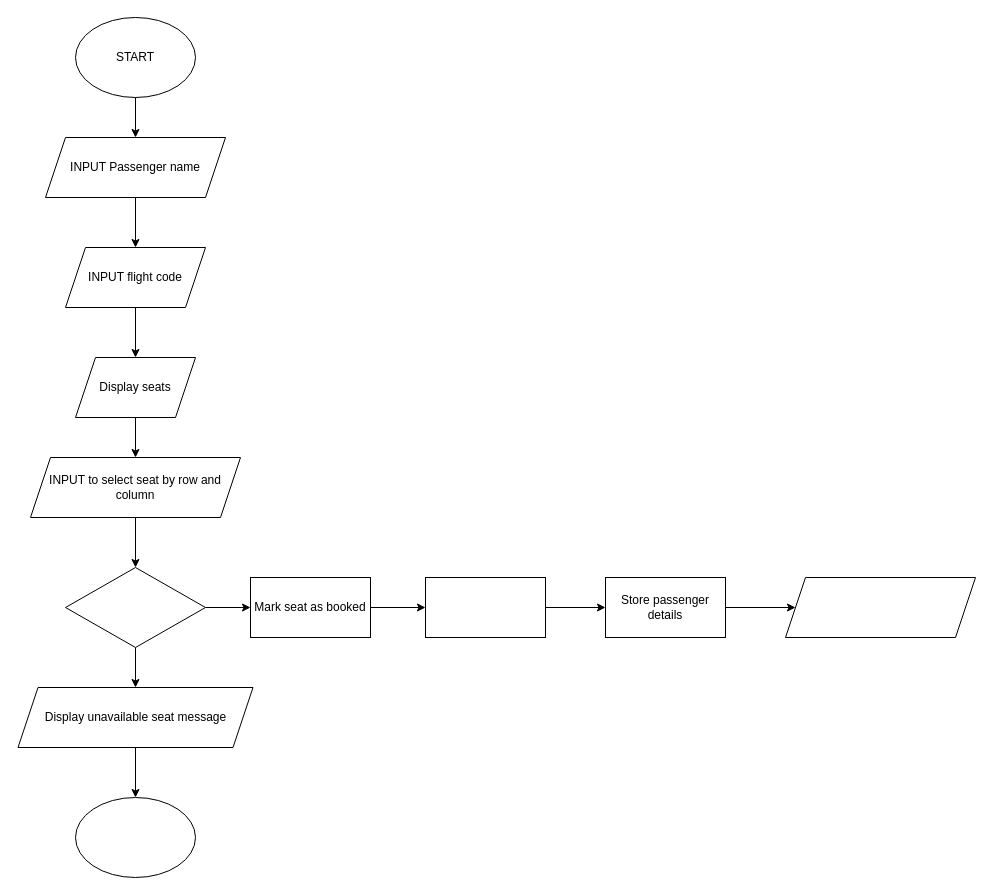
The diagram is 993 pixels wide and 895 high, and some of its shapes have lost their labels. The centre of each missing label's shape, as x and y in pixels:
Create a passenger record: [485,607]
Display booked successful message: [880,607]
END: [135,837]
Seat Available?: [135,607]
